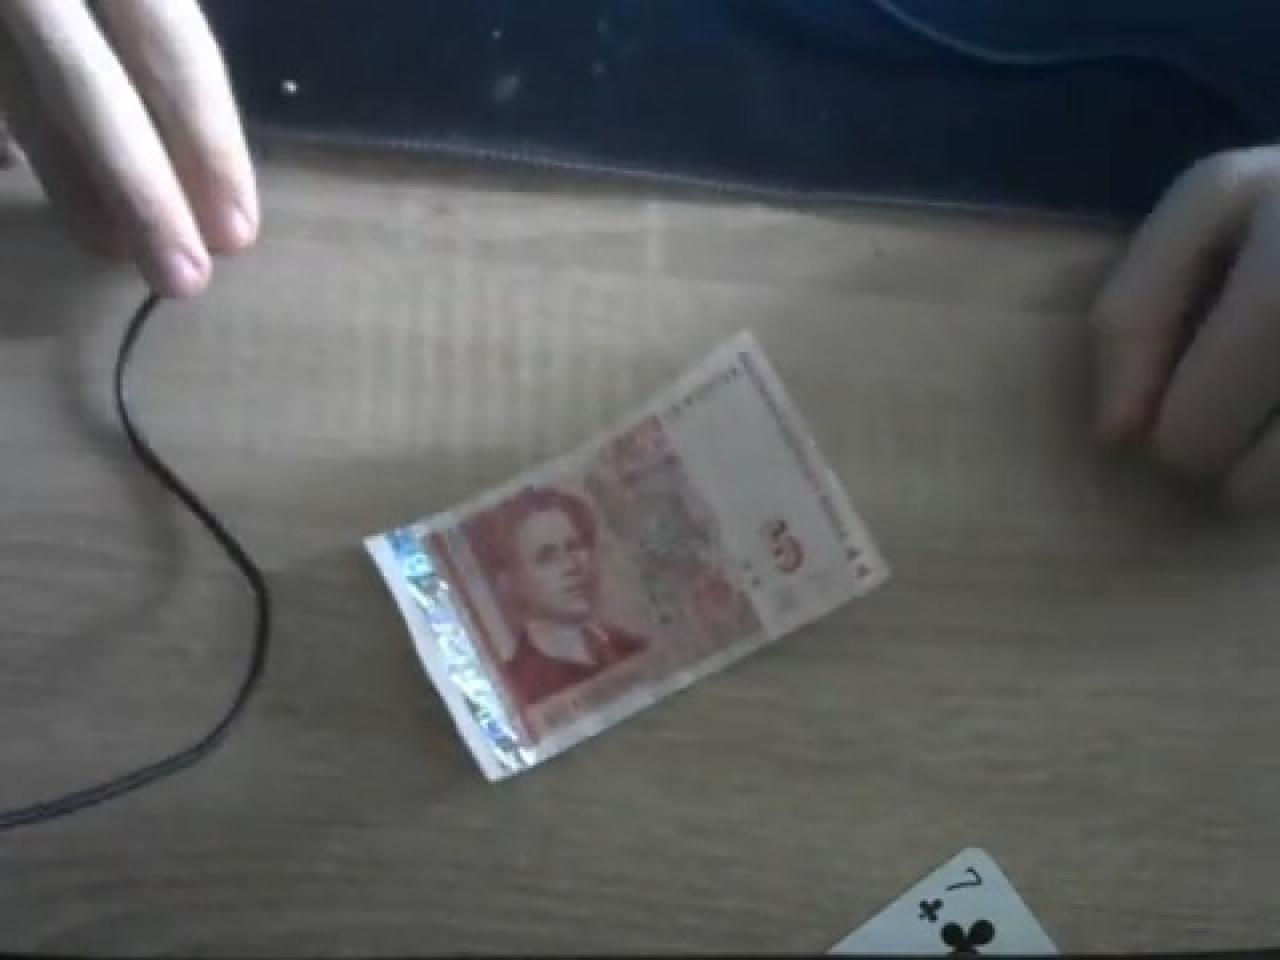5leva: (360, 334, 891, 784)
